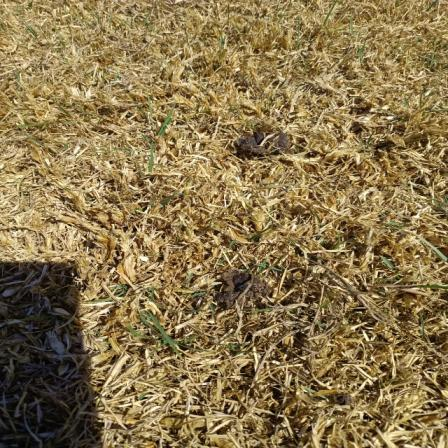dog-poop: (234, 118, 307, 171)
